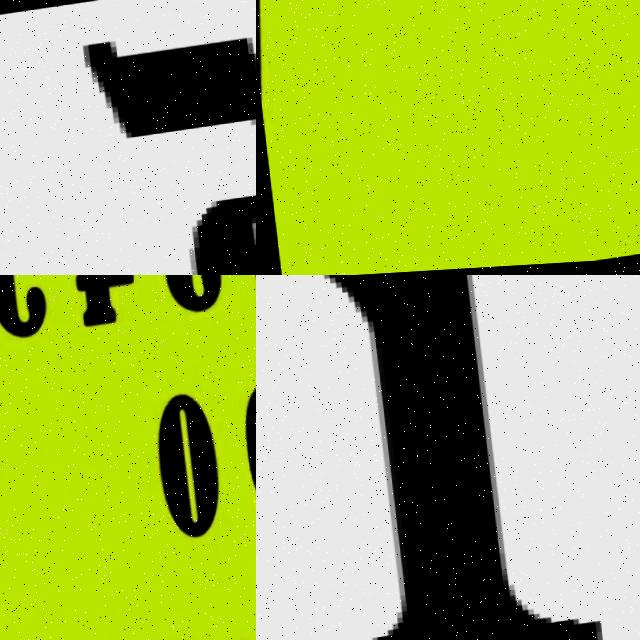0: (136, 370, 232, 552)
3: (143, 275, 229, 327)
4: (58, 275, 141, 343)
5: (73, 0, 256, 275), (0, 275, 55, 341)
9: (228, 359, 256, 553)
R: (256, 275, 616, 640)
